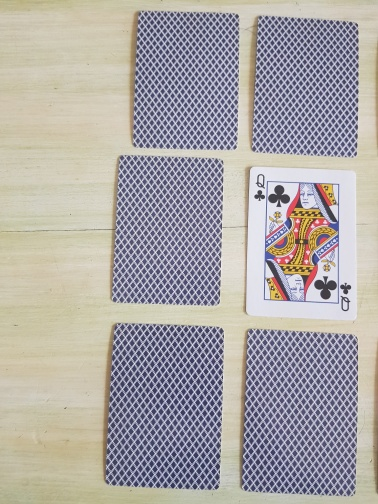queen: (243, 165, 360, 322)
